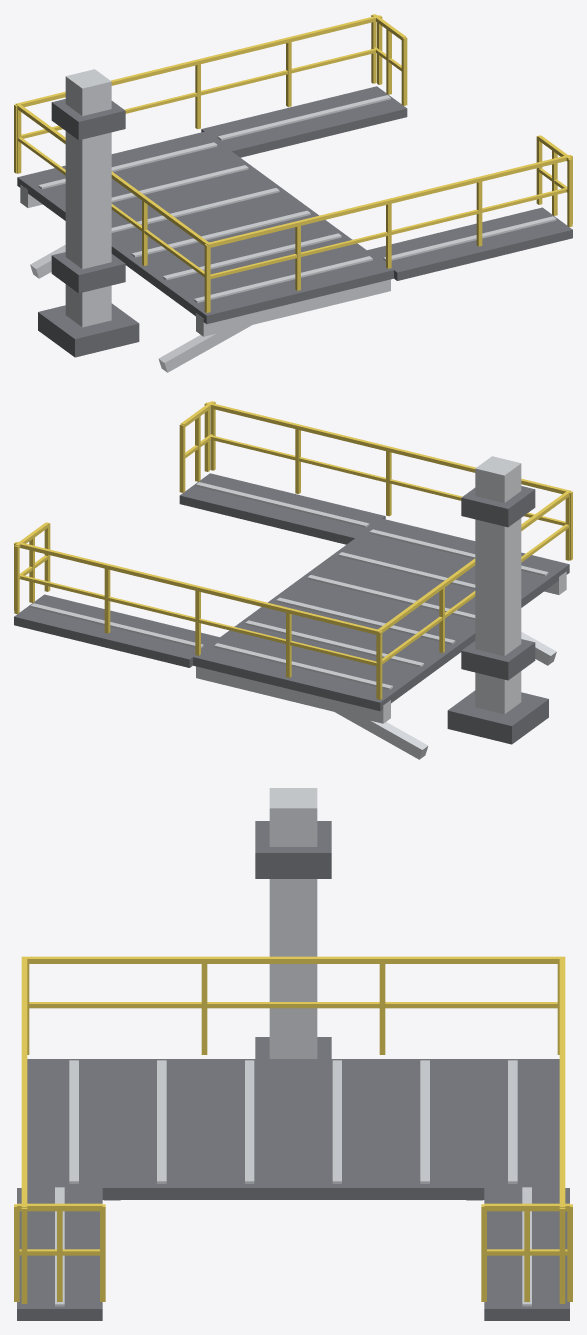
Rendered from rocket-launch-pad-and-gantry-gantry-swing-platform-92d5fada__38173.glb.
3 renders of one model, top to bottom at view 1: azimuth 30°, elevation 25°; view 2: azimuth 150°, elevation 25°; view 3: azimuth 270°, elevation 25°, orthographic. The views are drawn at different scales.
Parts seen in each view (by area): view 1: platform/charcoal, gantry-swing-platform, platform/yellow, platform/steel; view 2: platform/charcoal, gantry-swing-platform, platform/yellow, platform/steel; view 3: platform/charcoal, platform/yellow, gantry-swing-platform, platform/steel.
Part boxes in pixels (bbox=[...]): platform/charcoal: bbox=[17, 86, 572, 324]; gantry-swing-platform: bbox=[38, 69, 139, 357]; platform/yellow: bbox=[14, 14, 572, 312]; platform/steel: bbox=[20, 95, 556, 372]; platform/charcoal: bbox=[14, 473, 569, 711]; gantry-swing-platform: bbox=[447, 456, 548, 744]; platform/yellow: bbox=[14, 401, 572, 699]; platform/steel: bbox=[30, 482, 566, 759]; platform/charcoal: bbox=[17, 1059, 569, 1320]; platform/yellow: bbox=[14, 956, 572, 1303]; gantry-swing-platform: bbox=[255, 788, 331, 1058]; platform/steel: bbox=[55, 1060, 531, 1306].
Size of the model in its own units: 7.18 by 4.2 by 5.86.
